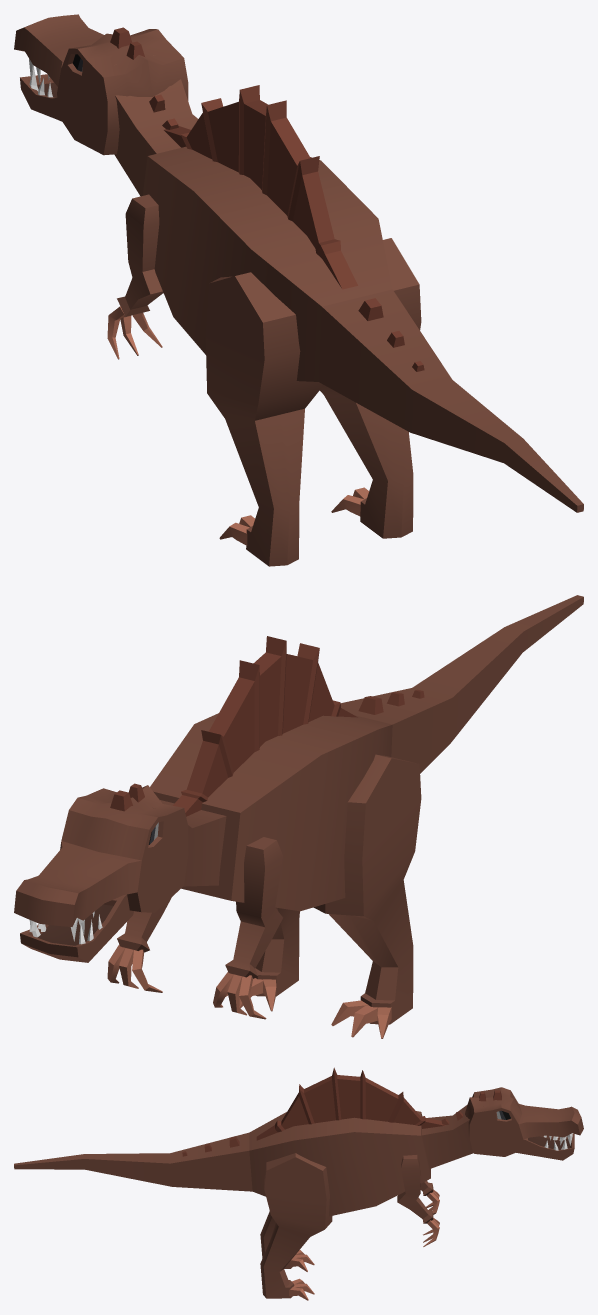
Rendered from spinosaurus_3.obj.
The picture shows the model from 3 angles, top to bottom: view 1: azimuth 30°, elevation 25°; view 2: azimuth 150°, elevation 25°; view 3: azimuth 270°, elevation 25°; orthographic projection. The views are drawn at different scales.
Visible parts, largest first — view 1: HumanoidRootPart, LeftLeg, Tail, Head, Torso, RightLeg, Neck, LeftArm, Jaw, Meshes/AzureChanges_Cube.127; view 2: HumanoidRootPart, Head, LeftLeg, Torso, Tail, LeftArm, Jaw, Neck, RightLeg, Meshes/AzureChanges_Cube.235, Meshes/AzureChanges_Cube.127, Meshes/AzureChanges_Cube.128 (+2 smaller); view 3: HumanoidRootPart, Tail, RightLeg, Torso, Head, Neck, RightArm, Jaw, LeftLeg, Meshes/AzureChanges_Cube.233.
Part boxes in pixels (x1,y1,x2,y2): HumanoidRootPart: (142,146,392,381); LeftLeg: (205,272,321,566); Tail: (318,289,583,512); Head: (14,14,188,155); Torso: (164,85,357,289); RightLeg: (320,238,421,538); Neck: (114,55,198,196); LeftArm: (117,194,163,316); Jaw: (20,66,61,121); Meshes/AzureChanges_Cube.127: (107,306,162,359); HumanoidRootPart: (150,713,392,911); Head: (14,783,188,941); LeftLeg: (313,754,421,1024); Torso: (173,636,357,816); Tail: (340,595,583,773); LeftArm: (225,837,282,978); Jaw: (20,894,133,962); Neck: (153,800,226,886); RightLeg: (255,907,299,996); Meshes/AzureChanges_Cube.235: (107,944,162,992); Meshes/AzureChanges_Cube.127: (213,972,266,1019); Meshes/AzureChanges_Cube.128: (331,1000,391,1038); HumanoidRootPart: (249,1111,430,1216); Tail: (14,1132,252,1191); RightLeg: (260,1153,332,1298); Torso: (256,1067,445,1140); Head: (441,1087,583,1156); Neck: (422,1104,473,1168); RightArm: (397,1155,433,1223); Jaw: (516,1133,574,1160); LeftLeg: (260,1211,292,1268); Meshes/AzureChanges_Cube.233: (289,1278,314,1300).
Bounding box in the file's own units: 4.25 × 9.92 × 24.36.
